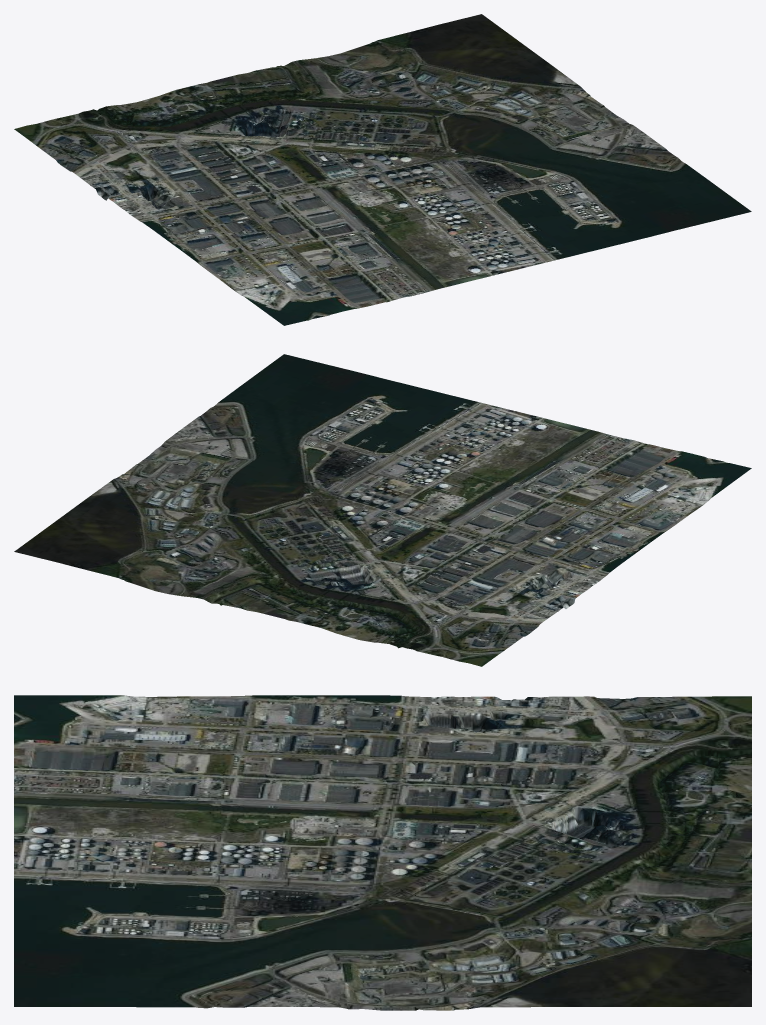
File: map_10_252_426.dae
3 views of the same model, one above another, from view 1: azimuth 30°, elevation 25°; view 2: azimuth 150°, elevation 25°; view 3: azimuth 270°, elevation 25° (orthographic). The views are drawn at different scales.
Parts seen in each view (by area): view 1: Ter0; view 2: Ter0; view 3: Ter0.
Part boxes in pixels (left/top/right/bottom): Ter0: left=14, top=14, right=751, bottom=325; Ter0: left=14, top=354, right=751, bottom=666; Ter0: left=14, top=695, right=751, bottom=1010.
Size of the model in its own units: 2044 by 2044 by 63.65.
2 materials, 2 textured.
